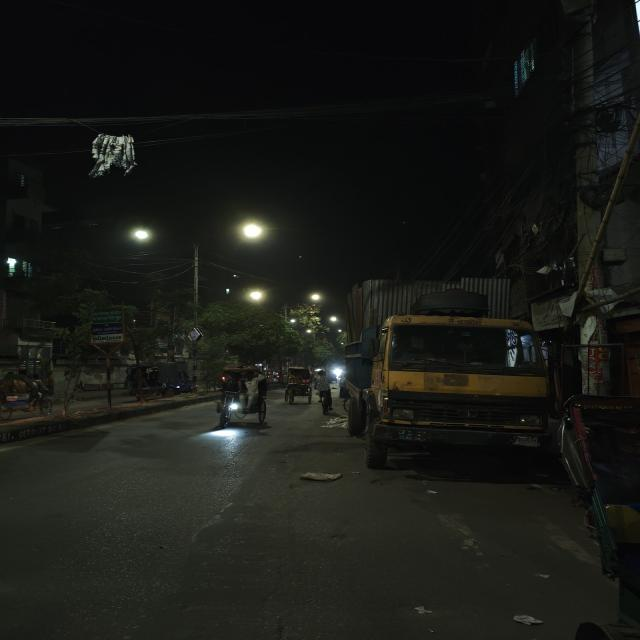pedestrian: (316, 381, 336, 415)
rickshaw: (210, 364, 274, 428), (0, 366, 61, 432), (281, 371, 307, 405)
truck: (341, 267, 578, 465)
